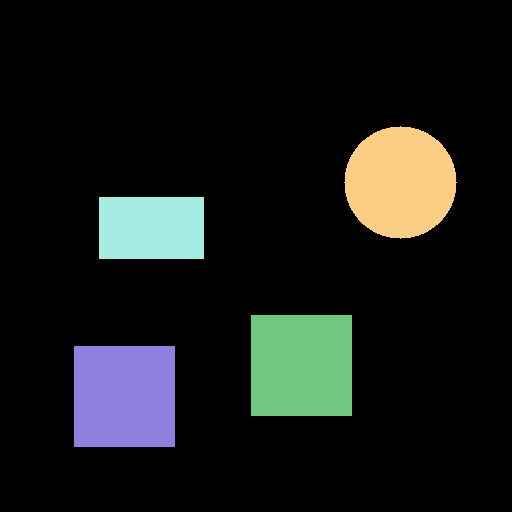circle: (344, 126, 456, 238)
rectangle: (99, 197, 203, 258)
square: (74, 346, 174, 446), (251, 315, 351, 415)
